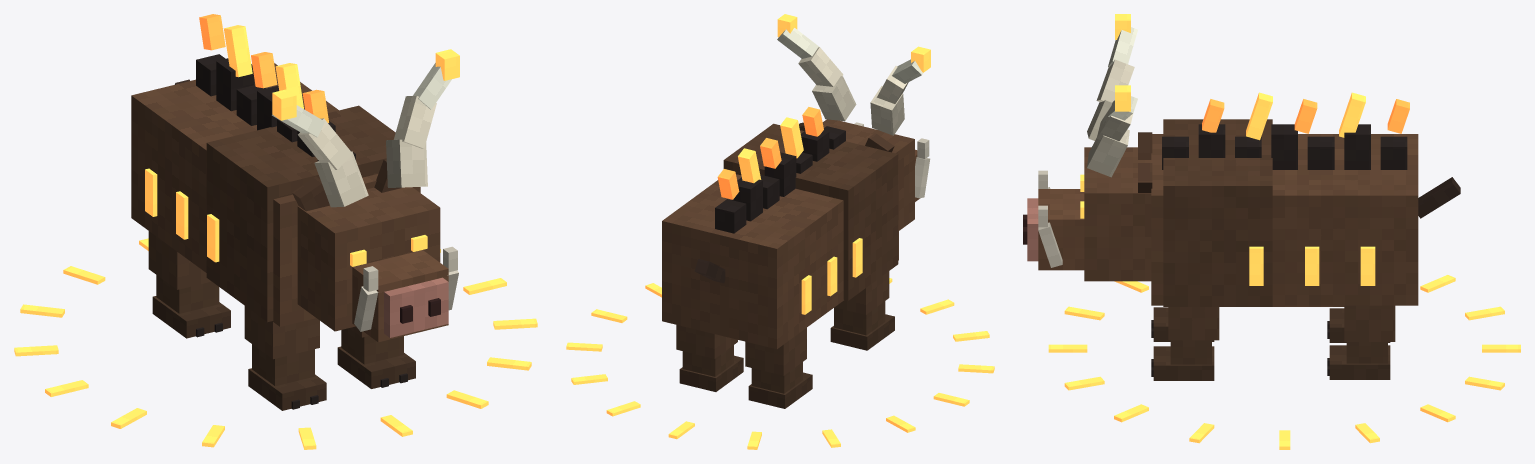
Rendered from boar_evo2.glb.
The picture shows the model from 3 angles, left to right: view 1: azimuth 30°, elevation 25°; view 2: azimuth 150°, elevation 25°; view 3: azimuth 270°, elevation 25°; orthographic projection. The views are drawn at different scales.
Parts seen in each view (by area): view 1: Torso, Head, ArmR, LegR, Root, ArmL; view 2: Torso, Head, LegR, Root, LegL, ArmR; view 3: Torso, Head, LegL, ArmL, Root, ArmR, LegR.
Boxes of the visible parts, bbox=[...] form: Torso: bbox=[131, 14, 420, 326]; Head: bbox=[272, 49, 459, 342]; ArmR: bbox=[244, 306, 326, 410]; LegR: bbox=[148, 231, 230, 338]; Root: bbox=[14, 238, 537, 449]; ArmL: bbox=[337, 326, 415, 388]; Torso: bbox=[662, 107, 898, 349]; Head: bbox=[777, 14, 930, 230]; LegR: bbox=[745, 328, 812, 408]; Root: bbox=[566, 278, 994, 449]; LegL: bbox=[676, 325, 743, 391]; ArmR: bbox=[830, 271, 894, 350]; Torso: bbox=[1151, 92, 1460, 306]; Head: bbox=[1023, 14, 1152, 281]; LegL: bbox=[1327, 305, 1395, 379]; ArmL: bbox=[1151, 307, 1219, 380]; Root: bbox=[1048, 275, 1520, 449]; ArmR: bbox=[1151, 307, 1214, 341]; LegR: bbox=[1327, 308, 1390, 342].
Size of the model in its own units: 1.95 by 1.36 by 2.05.
Materials: 17 (17 with a texture image).
